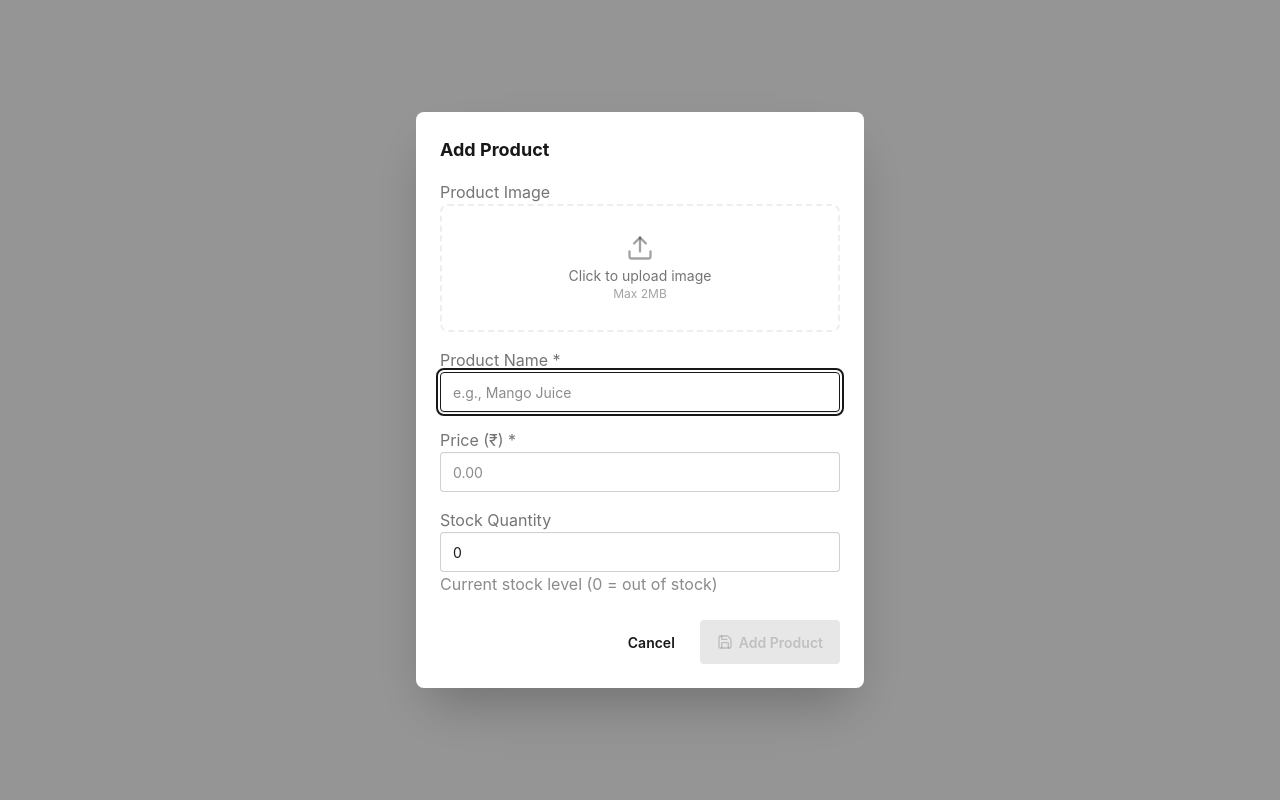
it: ProductForm › Add Product mode › enables submit button when name is entered
This screenshot has width=1280, height=800.
Type "Mango Juice" into the field with placeholder "e.g., Mango Juice".
click(640, 392); type("Mango Juice")  # box 440,372 -> 840,412
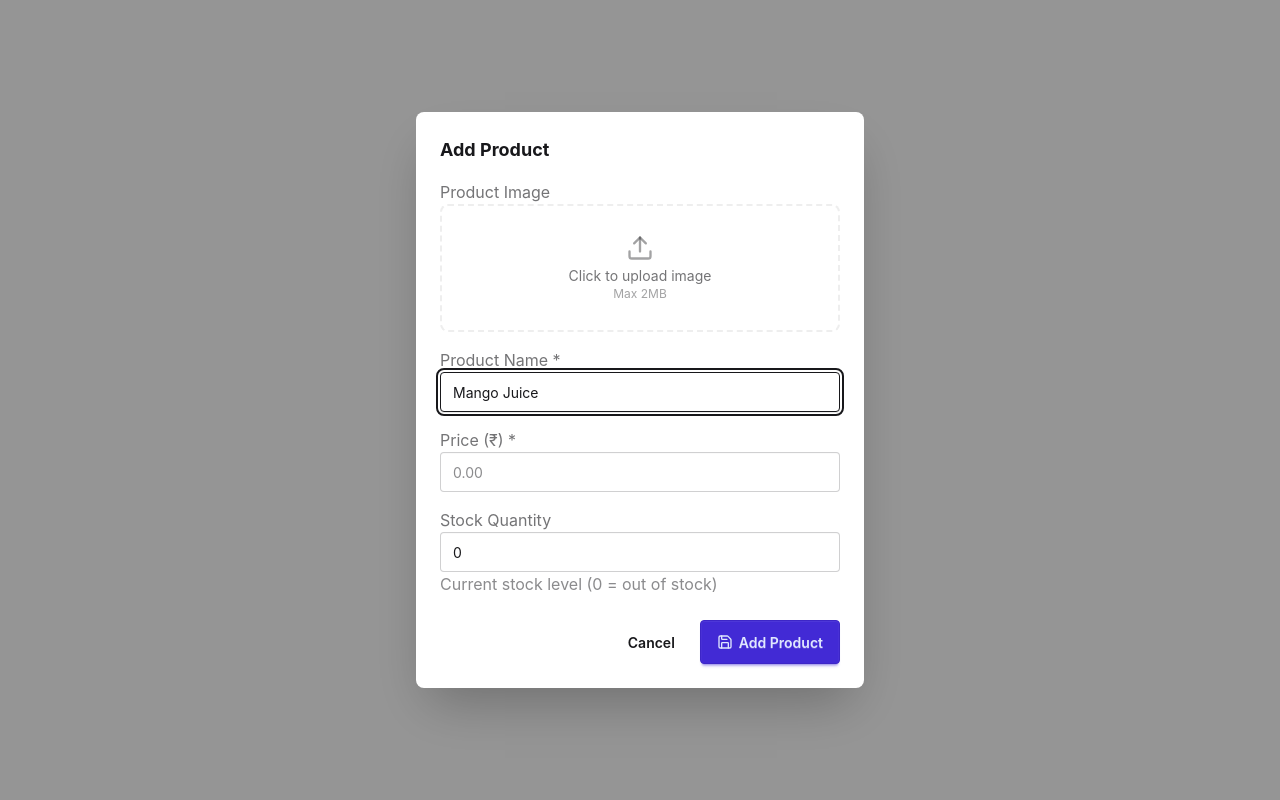
Expected: the button "Add Product" is enabled, 700,620 -> 840,664
